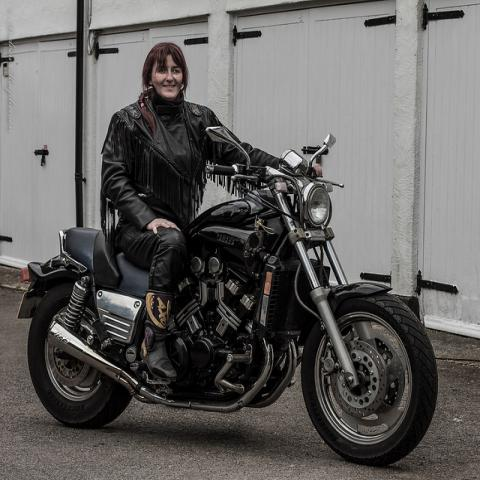motorcycle: (11, 124, 443, 465)
